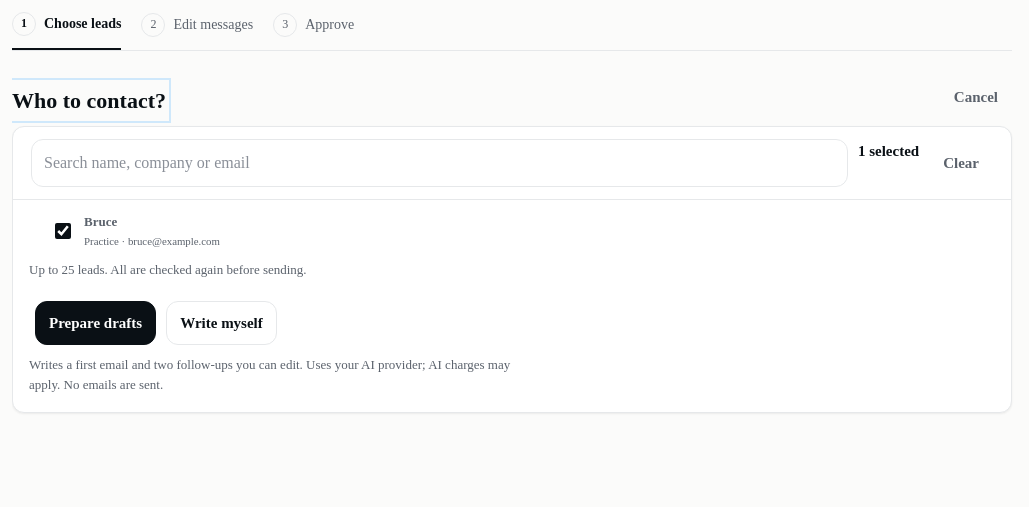
Test: a failed preparation explains itself, keeps the selection and never opens Chat
What coordinates should you click on to do the following:
click the button "Prepare drafts"
I would click on:
 (96, 323)
Its box is [35,301,156,345].
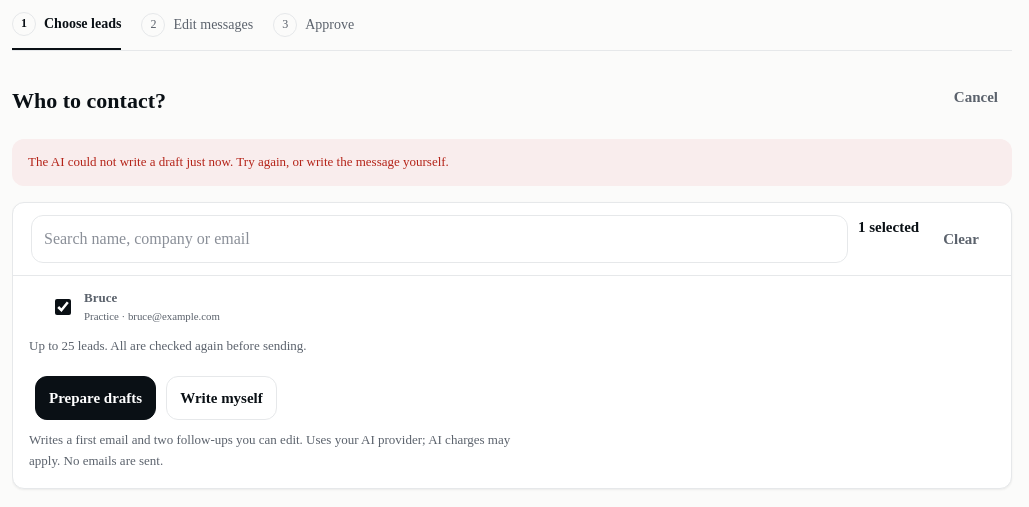
expect the heading "Who to contact?" is shown: met, box [12,83,166,118]
expect the message shows "write the message yourself": met, box [28,154,449,169]
